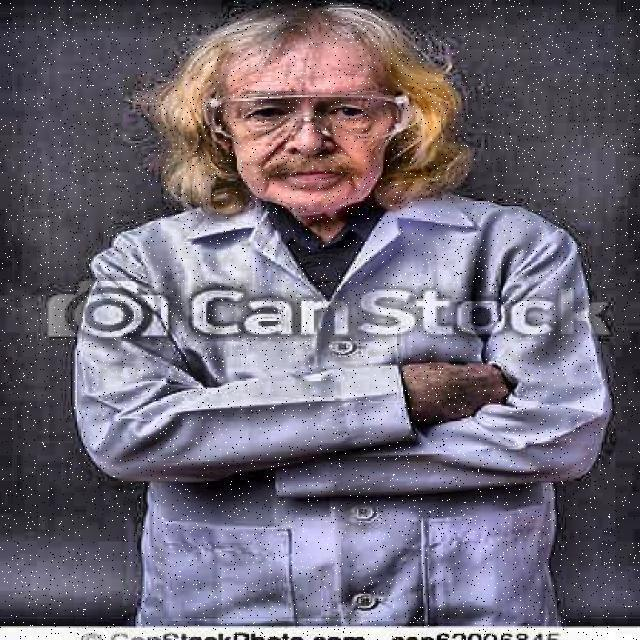Goggles: (201, 80, 417, 154)
